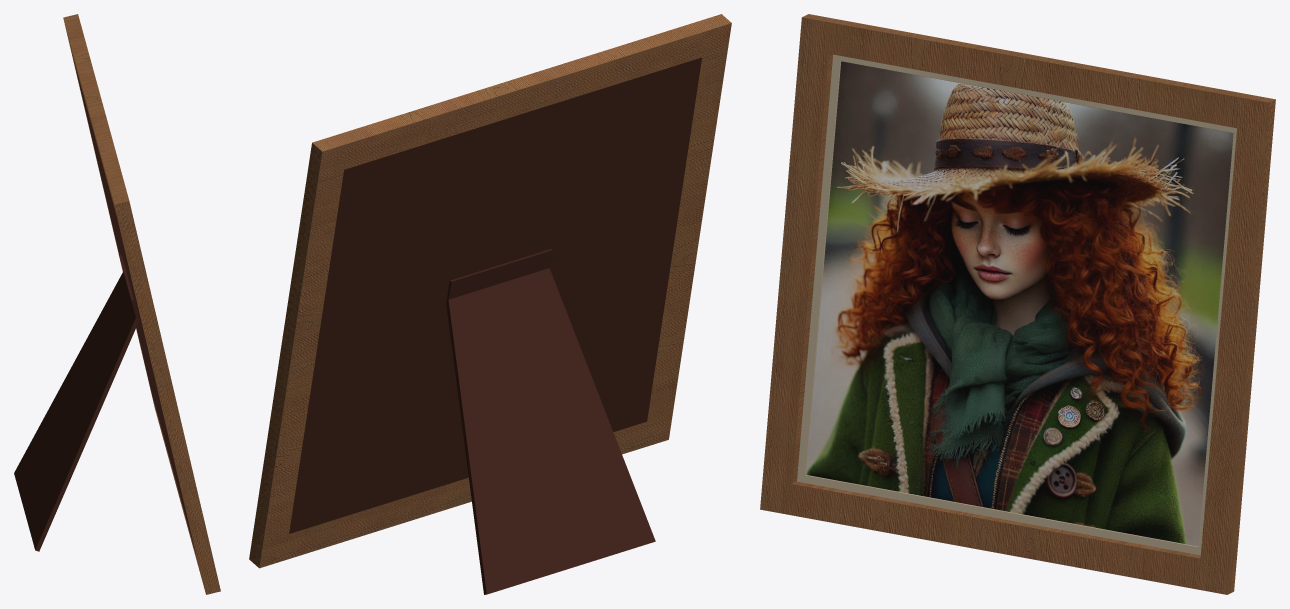
The model's file is Photoframe.fbx.
The picture shows the model from 3 angles, left to right: view 1: azimuth 30°, elevation 25°; view 2: azimuth 150°, elevation 25°; view 3: azimuth 270°, elevation 25°; orthographic projection. The views are drawn at different scales.
Parts seen in each view (by area): view 1: Plane.001; view 2: Plane.001; view 3: Plane.001.
Boxes of the visible parts, box(x1,y1,x2,y2) form: Plane.001: box(14, 14, 220, 594); Plane.001: box(249, 14, 731, 594); Plane.001: box(760, 14, 1275, 594).
Size of the model in its own units: 41.16 by 64.62 by 65.74.
4 materials, 2 textured.
